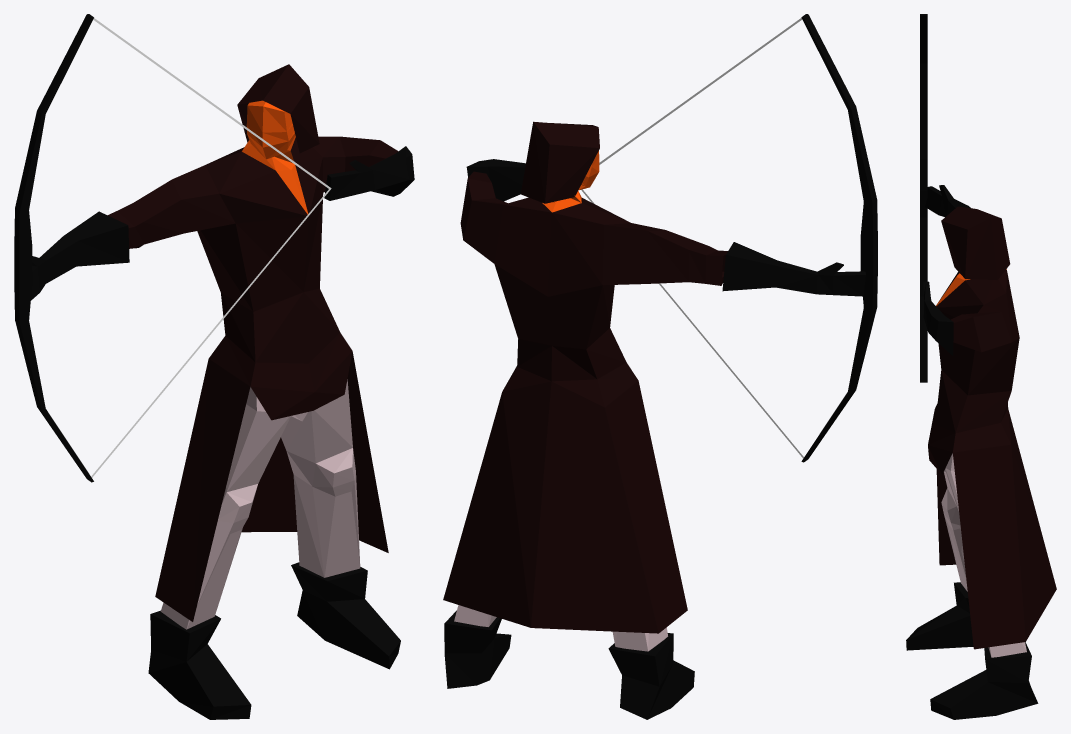
Rendered from man.obj.
3 views of the same model, side by side, from view 1: azimuth 30°, elevation 25°; view 2: azimuth 150°, elevation 25°; view 3: azimuth 270°, elevation 25° (orthographic). The views are drawn at different scales.
Parts seen in each view (by area): view 1: Archer_Version_3.006, Archer_Version_3, Archer_Version_3.005, Archer_Version_3.001, Archer_Version_3.003, Archer_Version_3.007, Archer_Version_3.004, Archer_Version_3.002; view 2: Archer_Version_3.006, Archer_Version_3.005, Archer_Version_3.001, Archer_Version_3.003, Archer_Version_3.004, Archer_Version_3, Archer_Version_3.002, Archer_Version_3.007; view 3: Archer_Version_3.006, Archer_Version_3.005, Archer_Version_3.001, Archer_Version_3, Archer_Version_3.004, Archer_Version_3.003.
Boxes of the visible parts, x1,y1,x2,y2 form: Archer_Version_3.006: (107, 64, 398, 621); Archer_Version_3: (160, 379, 360, 629); Archer_Version_3.005: (148, 562, 400, 719); Archer_Version_3.001: (14, 14, 93, 482); Archer_Version_3.003: (31, 211, 129, 300); Archer_Version_3.007: (242, 100, 308, 214); Archer_Version_3.004: (324, 146, 414, 200); Archer_Version_3.002: (91, 18, 331, 477); Archer_Version_3.006: (443, 121, 727, 633); Archer_Version_3.005: (444, 610, 694, 719); Archer_Version_3.001: (801, 14, 877, 462); Archer_Version_3.003: (722, 242, 865, 296); Archer_Version_3.004: (466, 159, 525, 201); Archer_Version_3: (454, 605, 667, 651); Archer_Version_3.002: (581, 18, 803, 458); Archer_Version_3.007: (542, 151, 599, 212); Archer_Version_3.006: (928, 206, 1056, 649); Archer_Version_3.005: (906, 582, 1038, 719); Archer_Version_3.001: (920, 14, 927, 382); Archer_Version_3: (941, 453, 1026, 657); Archer_Version_3.004: (923, 281, 953, 355); Archer_Version_3.003: (925, 185, 970, 216).
Size of the model in its own units: 12.38 by 21.23 by 5.
